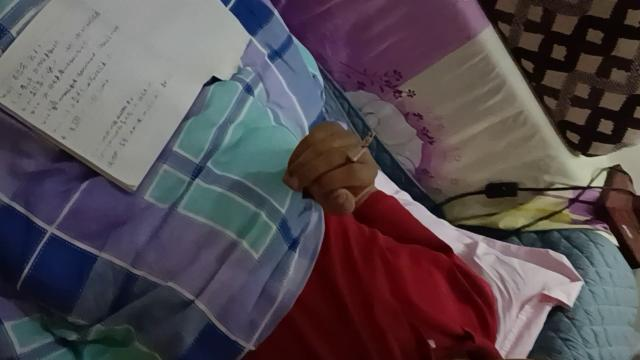Cigarette: (344, 132, 376, 168)
